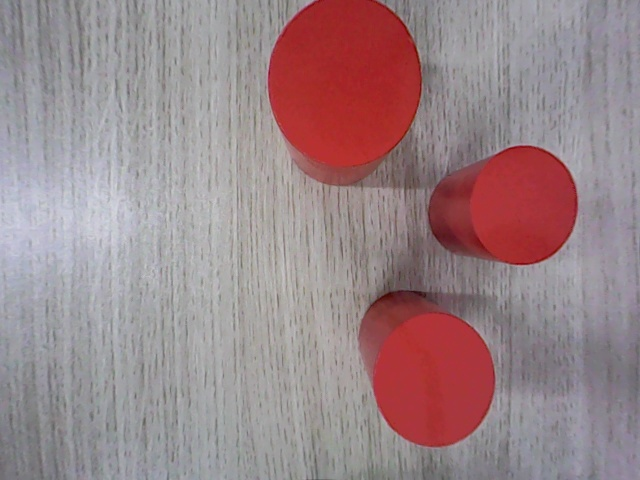upside of cylinder: (267, 0, 422, 166), (373, 311, 495, 447), (471, 145, 578, 266)
